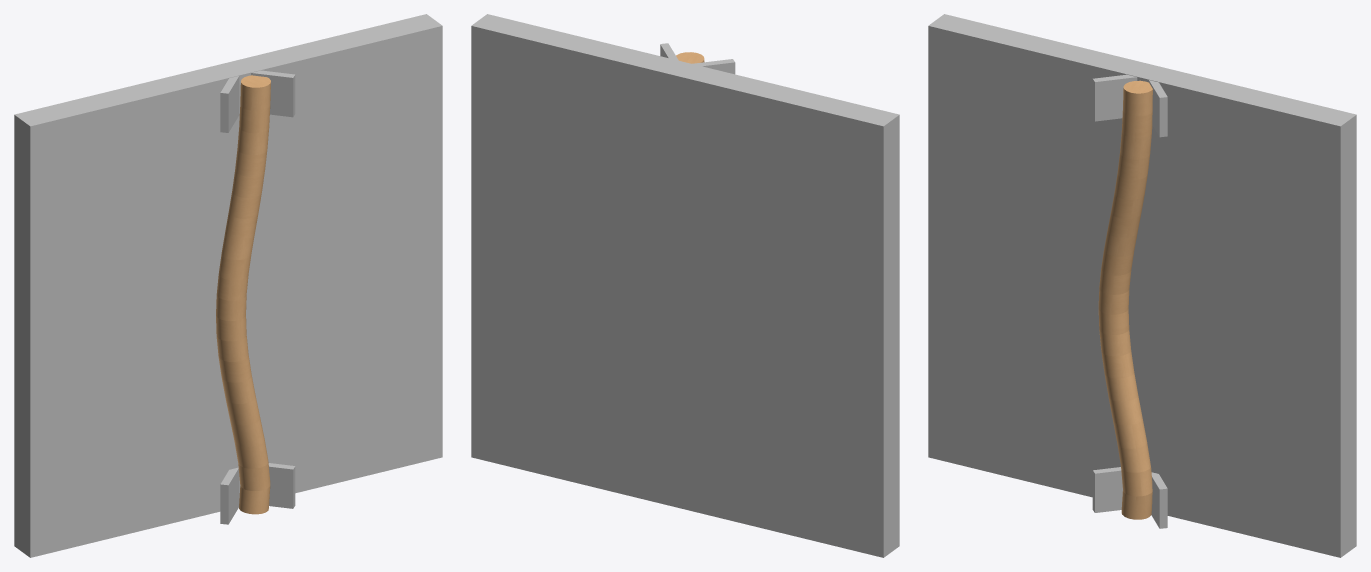
Rendered from Wire2.fbx.
3 renders of one model, left to right at view 1: azimuth 30°, elevation 25°; view 2: azimuth 150°, elevation 25°; view 3: azimuth 330°, elevation 25°, orthographic.
Parts seen in each view (by area): view 1: Wire_2; view 2: Wire_2; view 3: Wire_2.
Boxes of the visible parts, x1,y1,x2,y2 form: Wire_2: [14, 14, 442, 557]; Wire_2: [471, 14, 899, 557]; Wire_2: [928, 14, 1356, 557].
Bounding box in the file's own units: 200 × 200 × 26.74.
